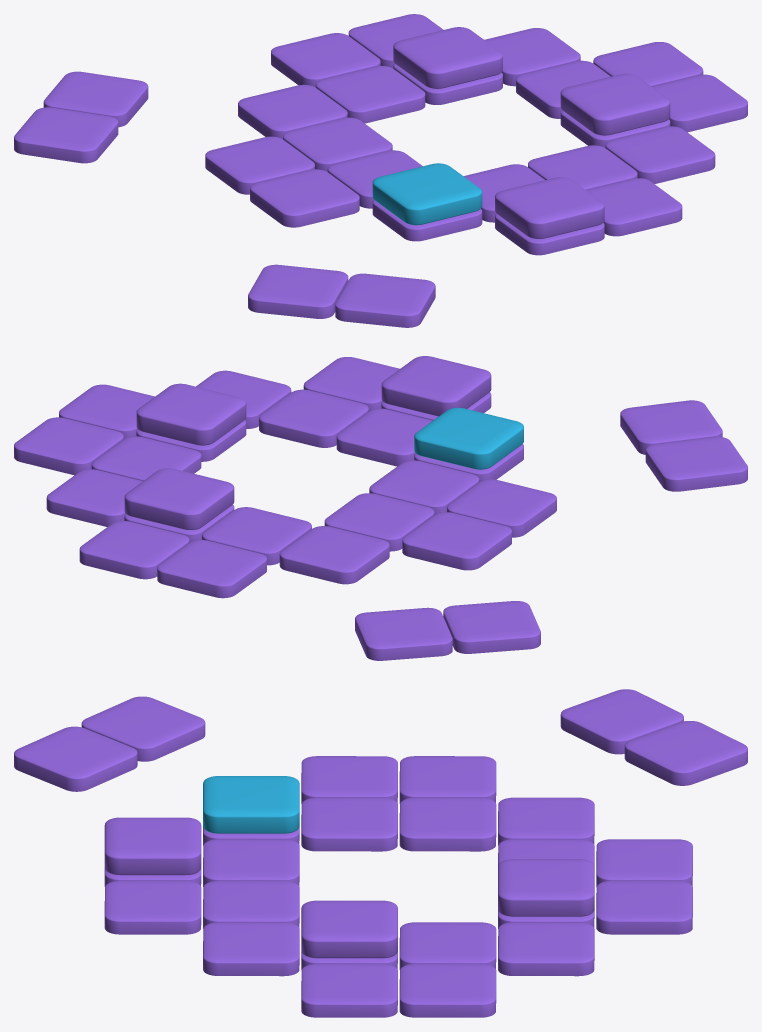
Rendered from Level12.glb.
3 renders of one model, top to bottom at view 1: azimuth 30°, elevation 25°; view 2: azimuth 150°, elevation 25°; view 3: azimuth 270°, elevation 25°, orthographic. The views are drawn at different scales.
Visible parts, largest first — view 1: block.002, block, block.001, block.004, platform.022, platform.001, platform.006, platform.028, platform.015, platform.002, platform.023, platform.018 (+16 smaller); view 2: block.002, block.004, block, block.001, platform.018, platform.023, platform.004, platform.028, platform.007, platform.001, platform.010, platform.009 (+16 smaller); view 3: block.001, block.002, block, block.004, platform.006, platform.007, platform.017, platform.016, platform.011, platform.010, platform.021, platform.014 (+16 smaller).
Part boxes in pixels (x1,y1,x2,y2): block.002: (560,73,670,135); block: (372,163,482,225); block.001: (495,177,604,238); block.004: (393,27,502,88); platform.022: (250,169,359,227); platform.001: (14,107,118,163); platform.006: (335,273,435,327); platform.028: (248,264,348,318); platform.015: (605,126,715,183); platform.002: (315,66,425,123); platform.023: (205,136,314,194); platform.018: (238,84,347,139); block.002: (136,383,246,445); block.004: (124,468,234,529); block: (414,407,523,469); block.001: (381,356,491,416); platform.018: (279,526,389,584); platform.023: (402,512,511,570); platform.004: (157,540,266,598); platform.028: (645,436,747,491); platform.007: (355,607,452,660); platform.001: (443,601,540,653); platform.010: (79,521,189,579); platform.009: (259,389,368,447); block.001: (104,817,201,875); block.002: (301,900,397,958); block: (203,776,299,833); block.004: (498,859,594,916); platform.006: (14,726,137,791); platform.007: (624,721,747,785); platform.017: (399,797,496,851); platform.016: (301,797,397,851); platform.011: (104,880,201,934); platform.010: (596,880,692,934); platform.021: (399,964,496,1017); platform.014: (498,922,594,976).
Size of what is drawn, in the model's own units: 18.75 by 1.04 by 18.44.
